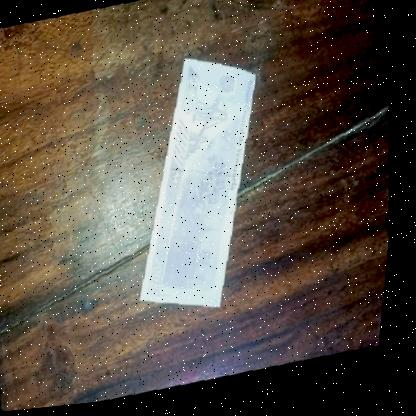two_hundred-back-vef: (111, 43, 292, 332)
